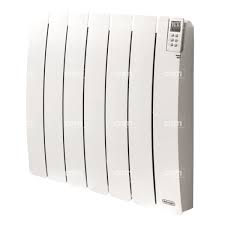Radiator: (26, 14, 194, 215)
